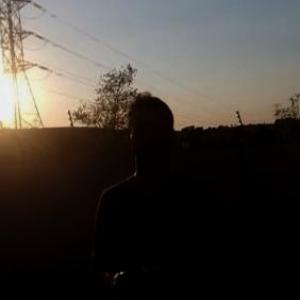follow: (84, 85, 222, 299)
